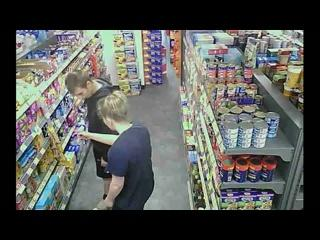Normal: (76, 90, 154, 210), (65, 71, 122, 201)
